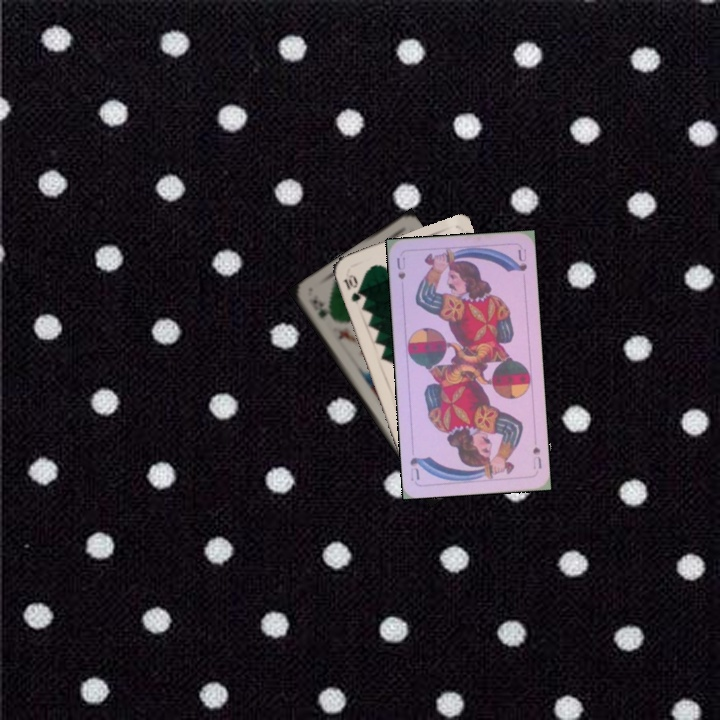G10: (338, 270, 365, 304)
GK: (308, 295, 330, 321)
SU: (393, 253, 408, 282), (529, 443, 544, 472)
